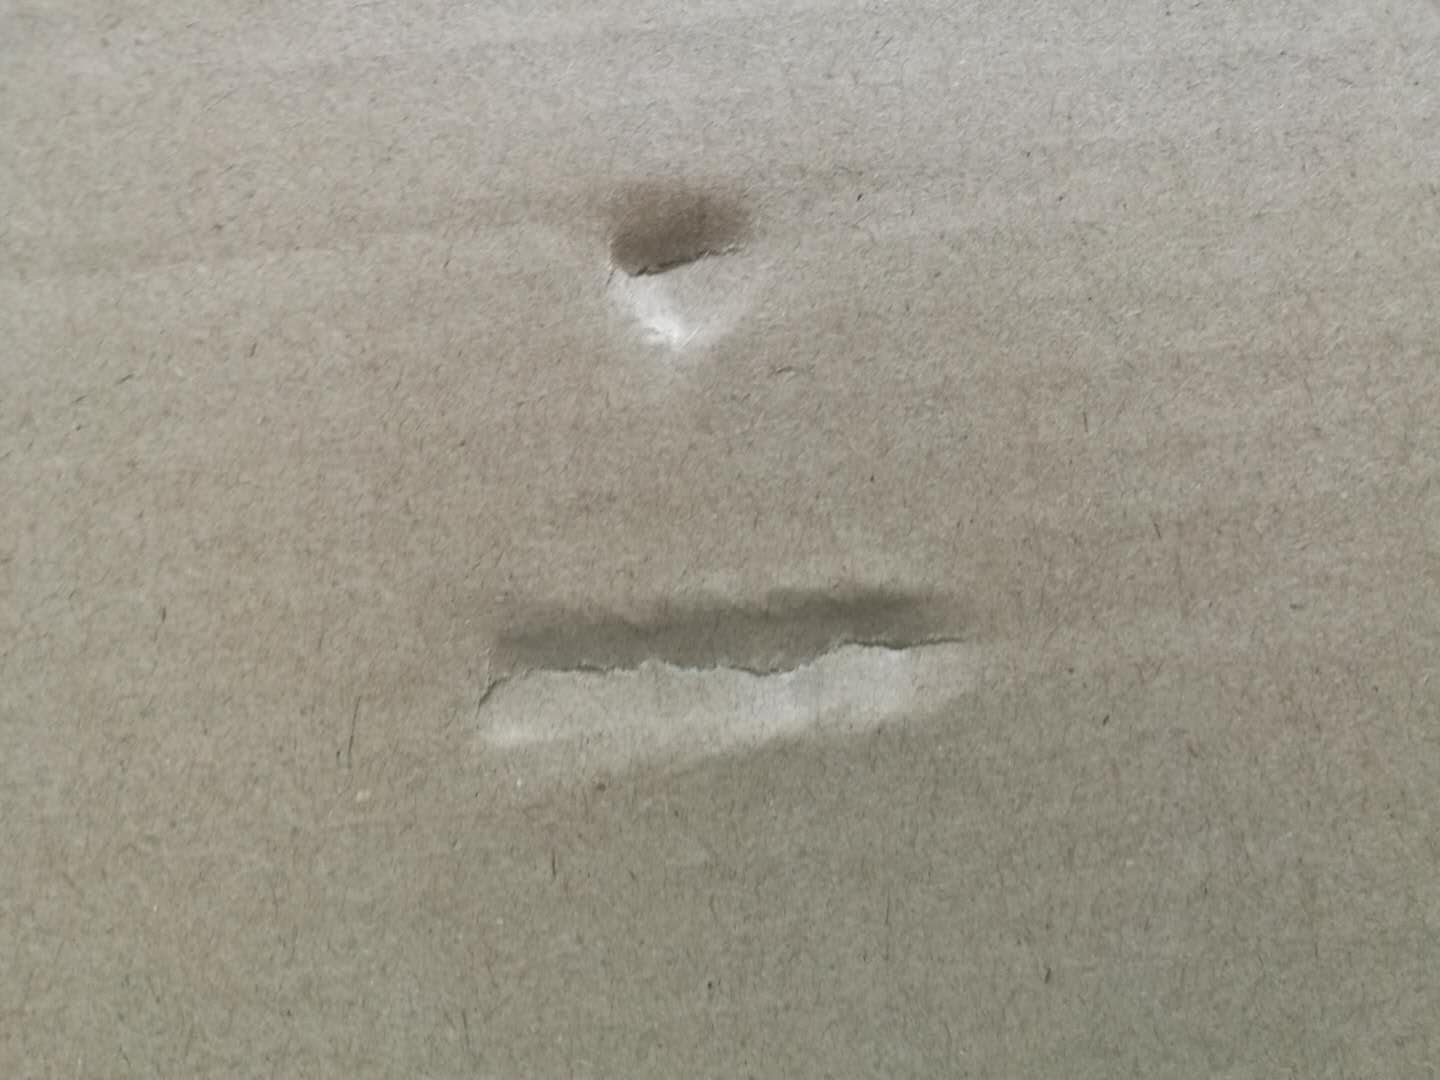defect: (414, 556, 1011, 784), (558, 154, 818, 403)
